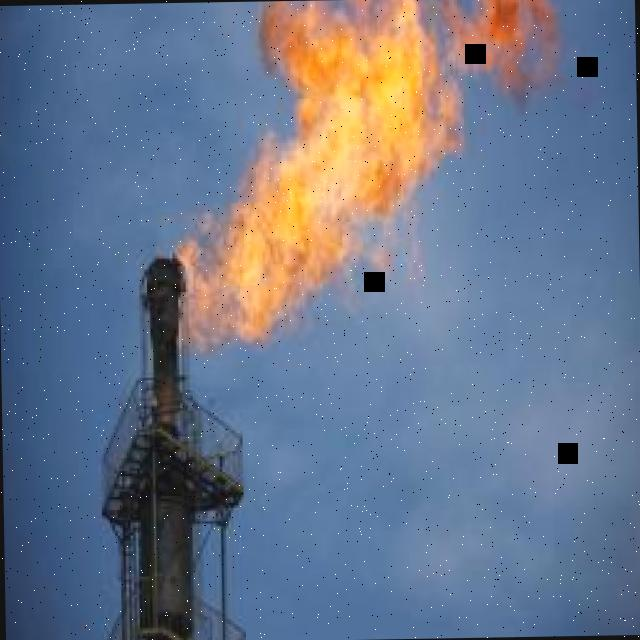fire: (168, 0, 562, 356)
